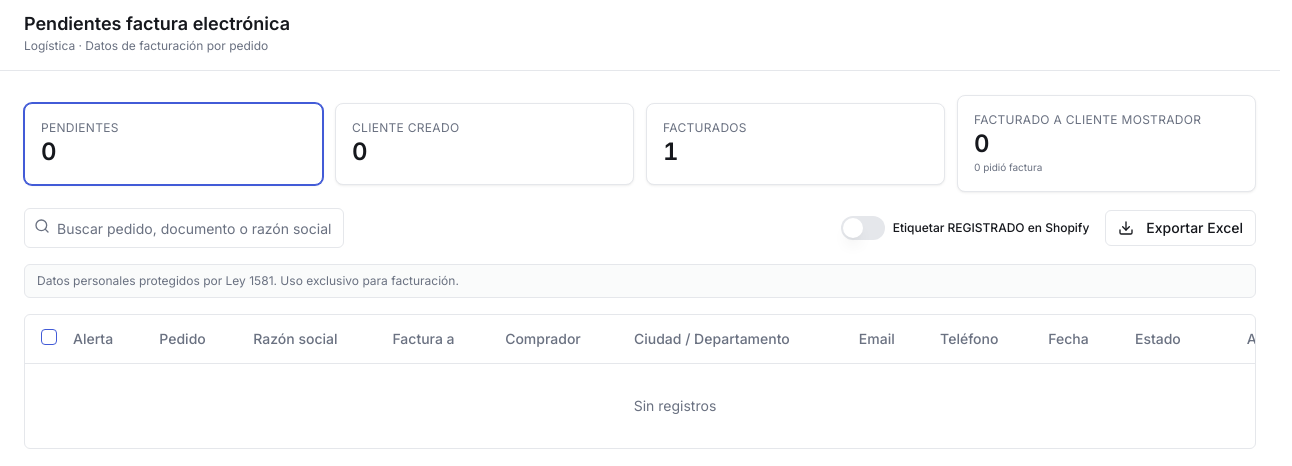
it: documentos de las cuatro pestañas › usa doc_factura y documento_direccion en facturado
Click the button "Facturados 1" at (796, 144), box [646, 95, 945, 192]
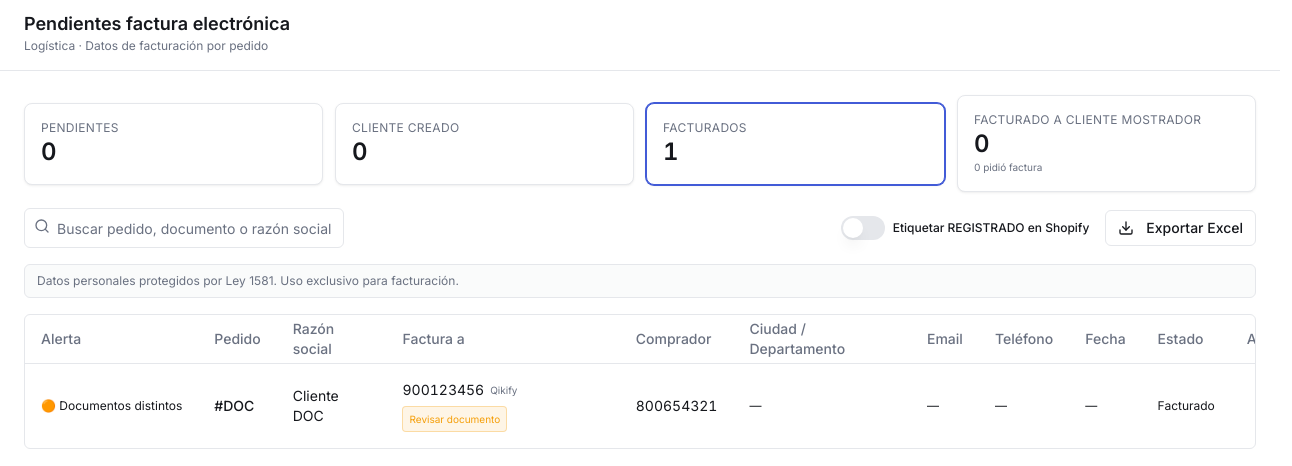
Check: the text "900123456" is shown, box [402, 380, 484, 398]
Check: the text "800654321" is shown, box [620, 363, 733, 448]
